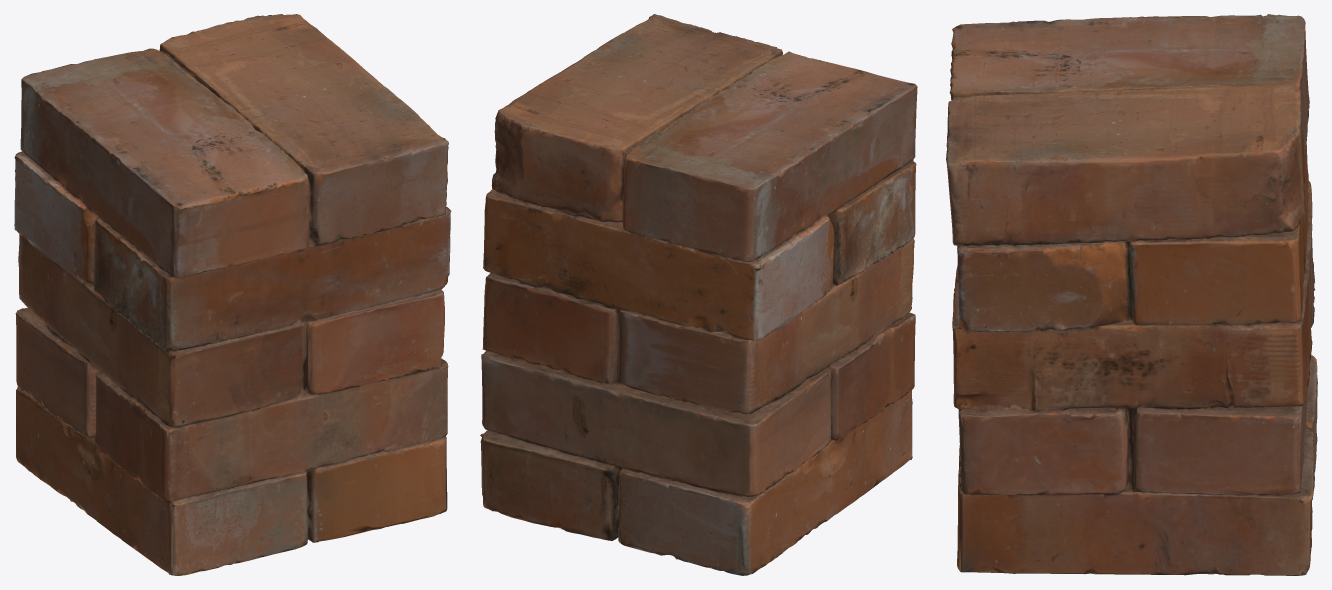
The model's file is Stacked_Bricks_weurehy_High.gltf.
3 renders of one model, left to right at view 1: azimuth 30°, elevation 25°; view 2: azimuth 150°, elevation 25°; view 3: azimuth 270°, elevation 25°, orthographic. The views are drawn at different scales.
Visible parts, largest first — view 1: weurehy_LOD0_TIER1_000; view 2: weurehy_LOD0_TIER1_000; view 3: weurehy_LOD0_TIER1_000.
Boxes of the visible parts, x1,y1,x2,y2 form: weurehy_LOD0_TIER1_000: (14, 14, 451, 575); weurehy_LOD0_TIER1_000: (480, 14, 917, 575); weurehy_LOD0_TIER1_000: (946, 14, 1317, 575).
Bounding box in the file's own units: 0.2456 × 0.32 × 0.2537.
1 material, 1 textured.
